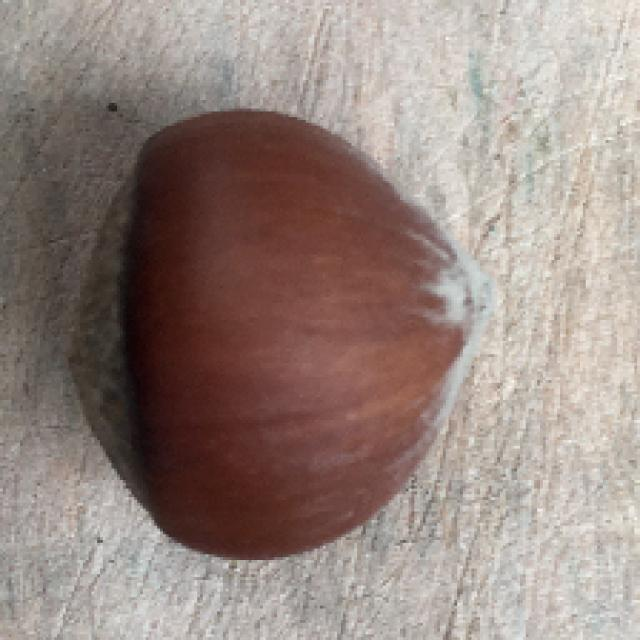damagedHazelnut: (55, 102, 491, 562)
